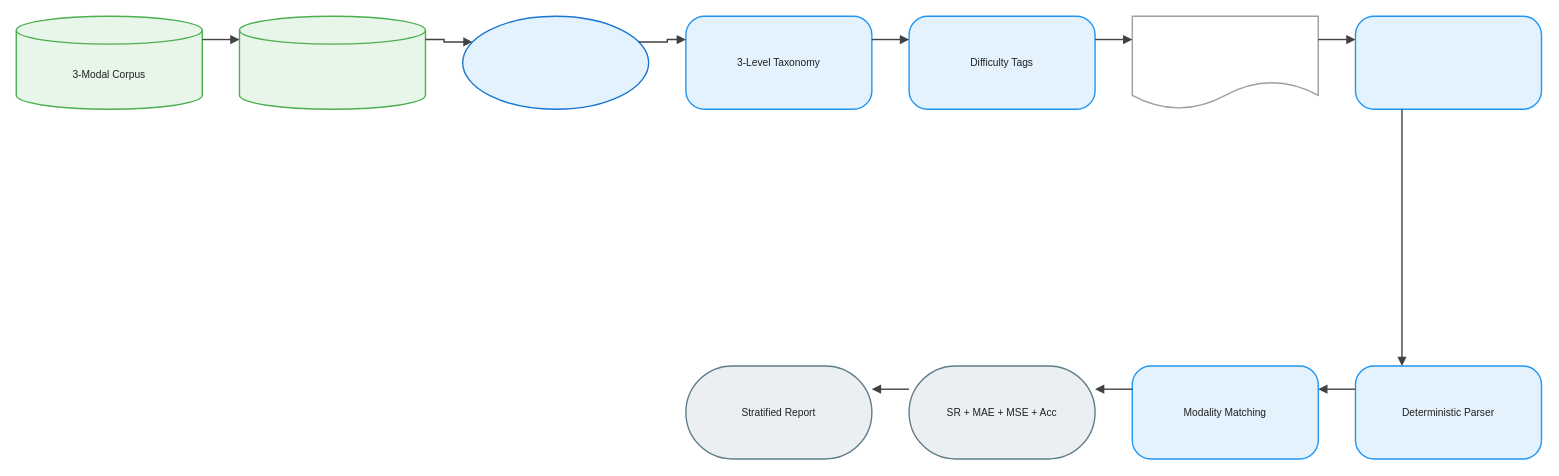
Some shapes in this 1559 by 476 pixel diagram are drawn without their labels. The shapes that lost their labels are listed below. From the top down, each one's centre as x and y in pixels, then its label:
At [332,62]: "14,301 Counting Qs".
At [555,62]: "Numeric Ground Truth".
At [1225,62]: "Freeze Splits + Rules".
At [1448,62]: "45 MLLMs / Fixed Setup".
